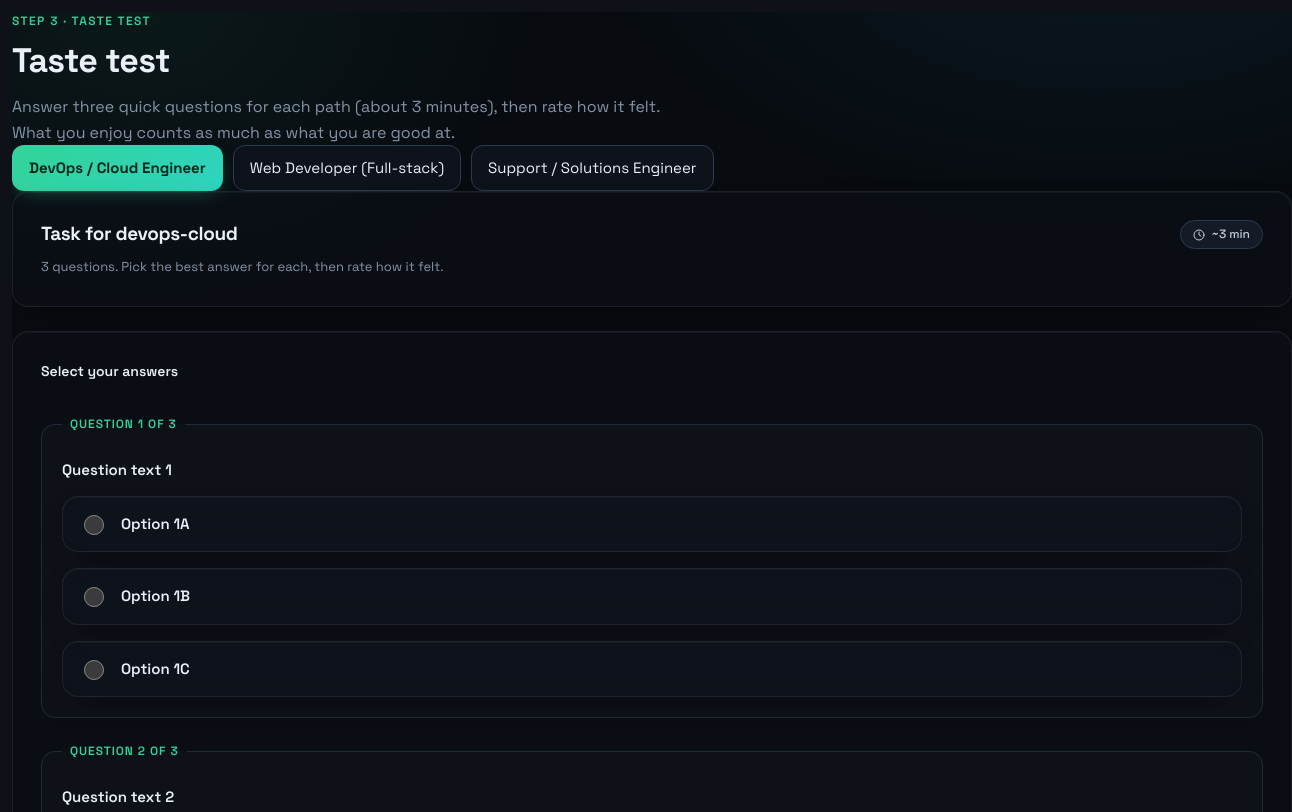
Scenario: Taste test page › switching tabs loads the other path's task and clears every chosen answer
This screenshot has width=1292, height=812.
Expected: the heading "Task for devops-cloud" is shown, [41,223,238,246]
Click the radio button labelled "Option 1B" at (94, 597), box [84,587,104,607]
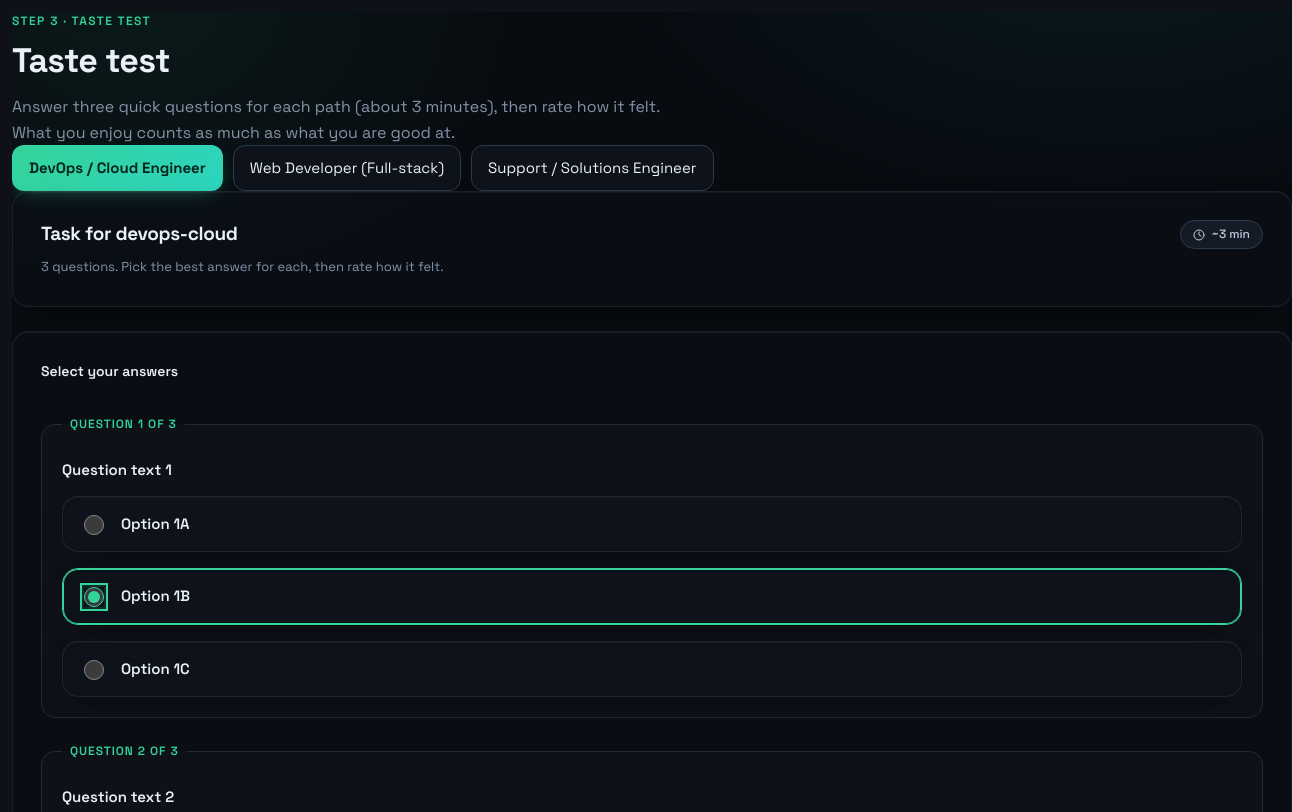
Click the tab "Web Developer (Full-stack)" at (347, 168), box [233,145,461,191]
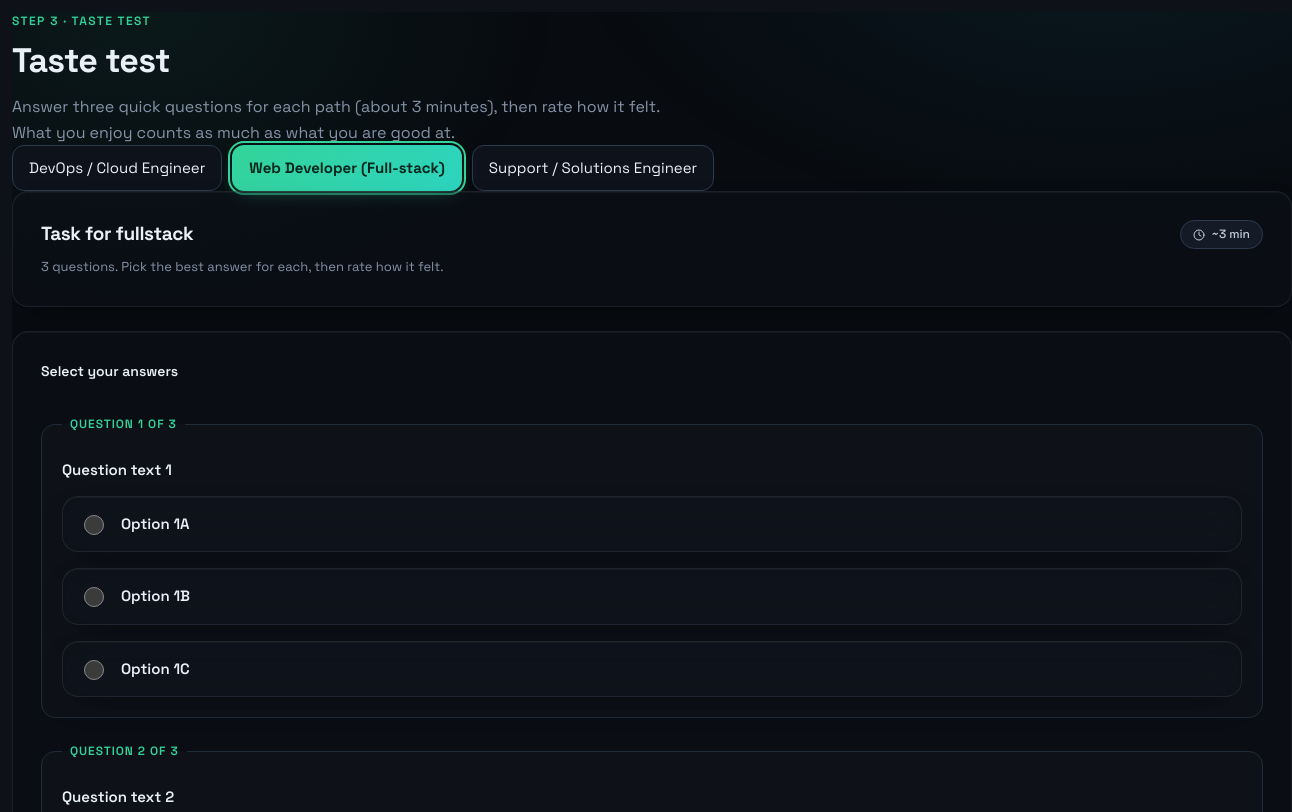
Expected: the heading "Task for fullstack" is shown, [41,223,193,246]
